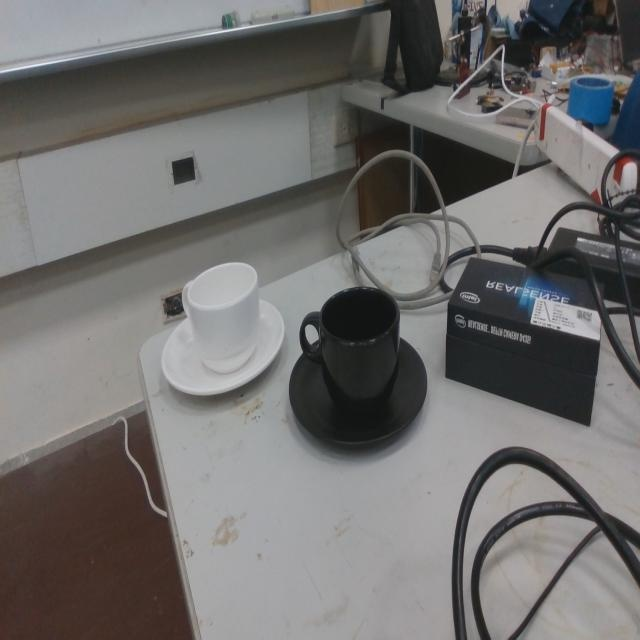black: (286, 283, 430, 457)
white: (158, 259, 286, 402)
